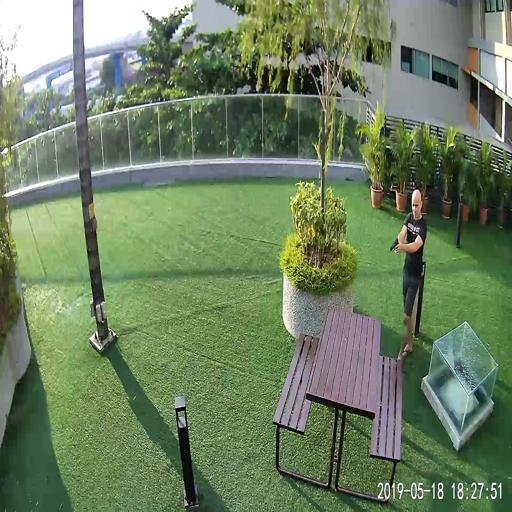pistol: (389, 237, 399, 255)
